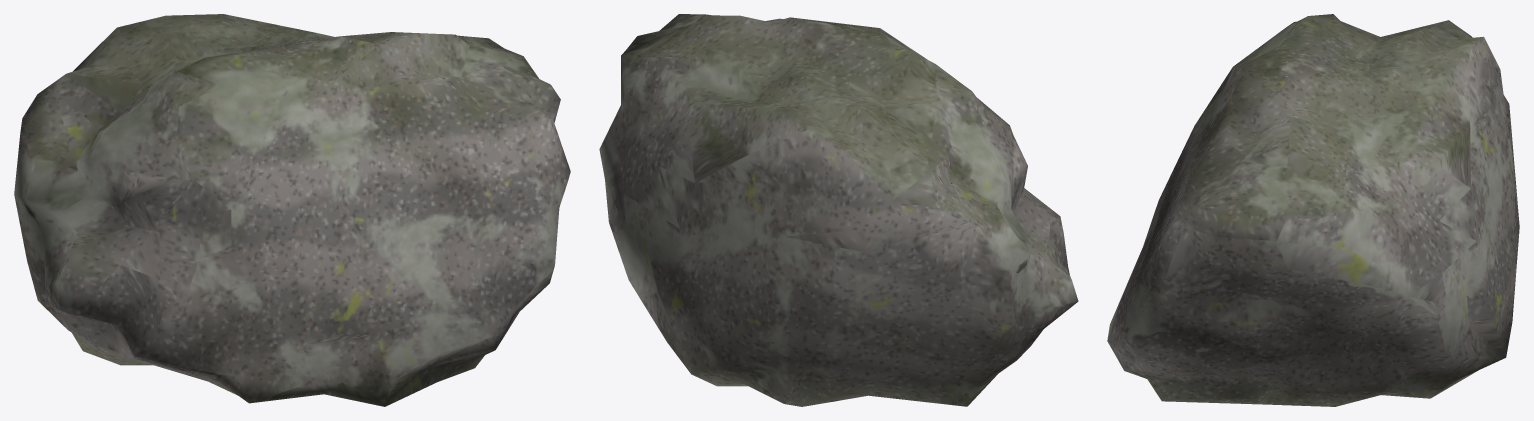
File: boulder_150_LOD1.fbx
3 renders of one model, left to right at view 1: azimuth 30°, elevation 25°; view 2: azimuth 150°, elevation 25°; view 3: azimuth 270°, elevation 25°, orthographic.
Visible parts, largest first — view 1: Boulder_150_LOD1; view 2: Boulder_150_LOD1; view 3: Boulder_150_LOD1.
Part boxes in pixels (<box>): Boulder_150_LOD1: <box>14,14,570,406</box>; Boulder_150_LOD1: <box>599,14,1078,406</box>; Boulder_150_LOD1: <box>1107,14,1519,406</box>.
Bounding box in the file's own units: 1.28 × 0.8347 × 1.01.
Materials: 1 (1 with a texture image).
